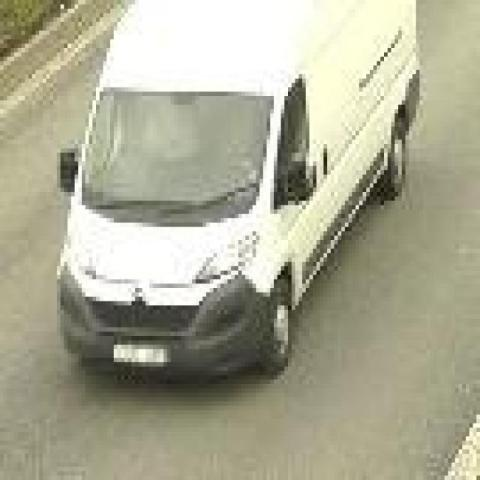van: (61, 0, 420, 380)
